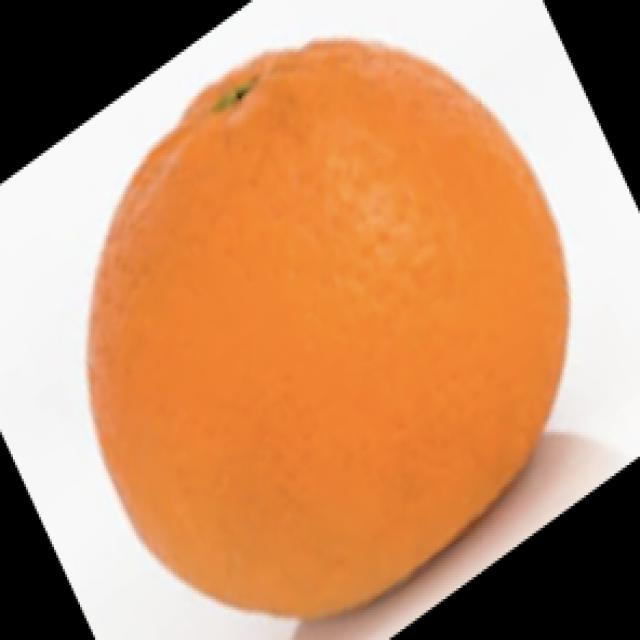fresh: (83, 45, 590, 616)
